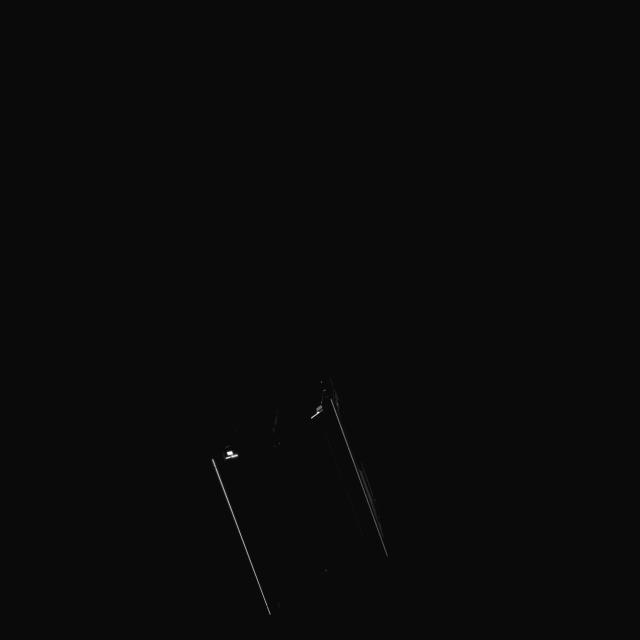satellite: (201, 372, 389, 619)
